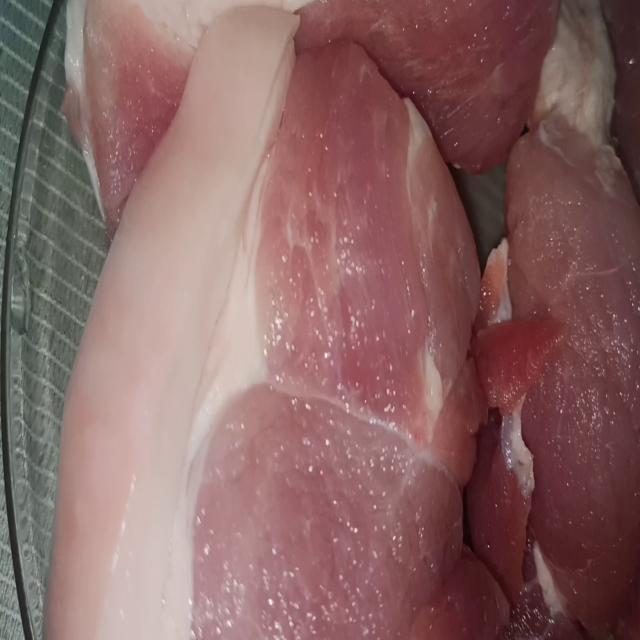pork: (57, 34, 520, 640), (67, 0, 582, 209), (495, 98, 640, 628)
